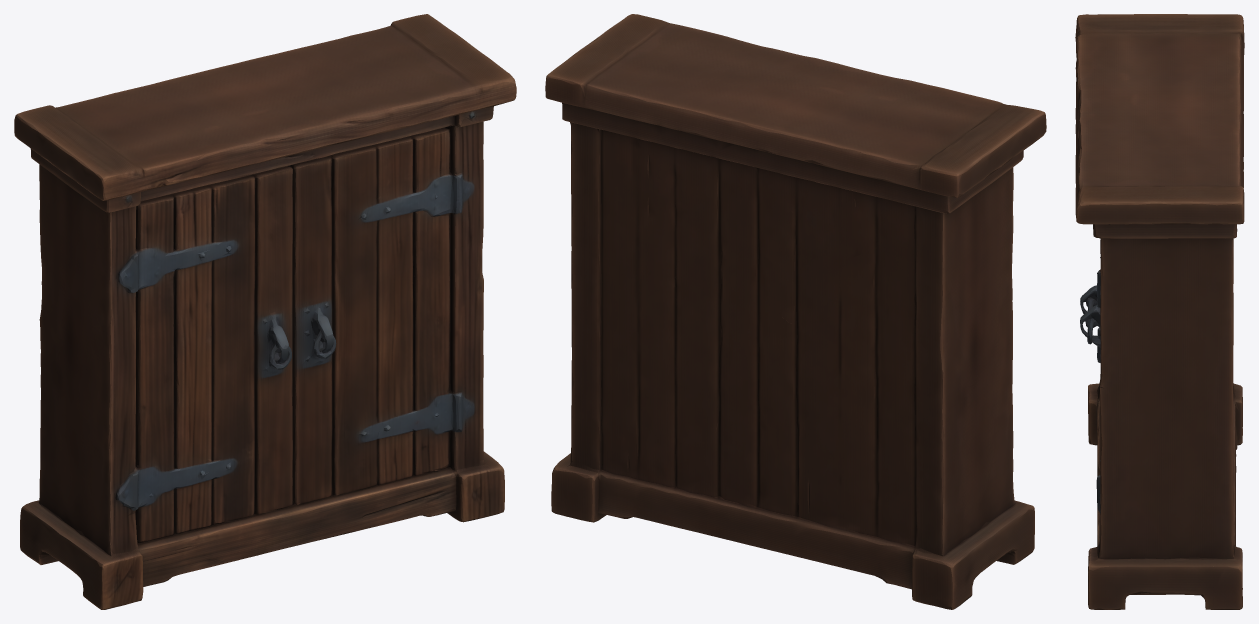
The model's file is Cabinet.fbx.
The picture shows the model from 3 angles, left to right: view 1: azimuth 30°, elevation 25°; view 2: azimuth 150°, elevation 25°; view 3: azimuth 270°, elevation 25°; orthographic projection. The views are drawn at different scales.
Visible parts, largest first — view 1: model; view 2: model; view 3: model.
Boxes of the visible parts, x1,y1,x2,y2 form: model: [14, 14, 516, 609]; model: [545, 14, 1046, 609]; model: [1075, 14, 1244, 609].
Size of the model in its own units: 185 by 187 by 69.72.
Materials: 1 (1 with a texture image).
